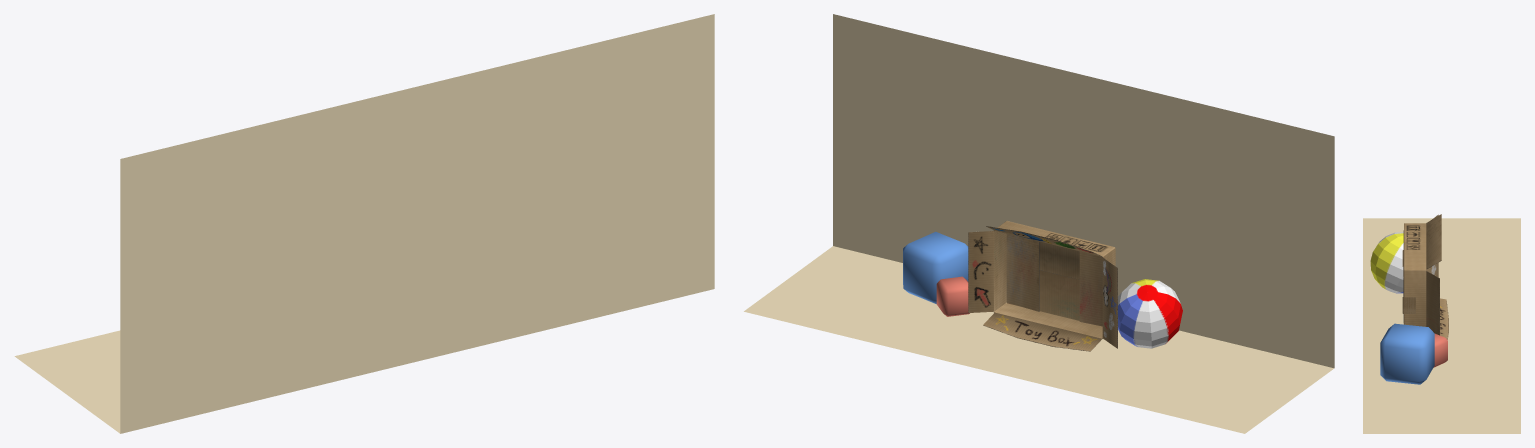
The model's file is toyBox.fbx.
3 renders of one model, left to right at view 1: azimuth 30°, elevation 25°; view 2: azimuth 150°, elevation 25°; view 3: azimuth 270°, elevation 25°, orthographic. The views are drawn at different scales.
Parts seen in each view (by area): view 1: background; view 2: background, Cardboard, Beach Ball, Cube.006, Cube.008; view 3: background, Cardboard, Cube.006, Beach Ball, Cube.008.
Boxes of the visible parts, bbox=[...] form: background: bbox=[14, 14, 714, 433]; background: bbox=[744, 14, 1334, 433]; Cardboard: bbox=[968, 221, 1117, 351]; Beach Ball: bbox=[1118, 279, 1182, 348]; Cube.006: bbox=[903, 231, 968, 303]; Cube.008: bbox=[936, 276, 969, 316]; background: bbox=[1363, 218, 1520, 433]; Cardboard: bbox=[1402, 214, 1448, 339]; Cube.006: bbox=[1380, 323, 1434, 384]; Beach Ball: bbox=[1370, 232, 1403, 293]; Cube.008: bbox=[1433, 333, 1447, 367].
Bounding box in the file's own units: 15858 × 7053 × 4908.
5 materials, 2 textured.
